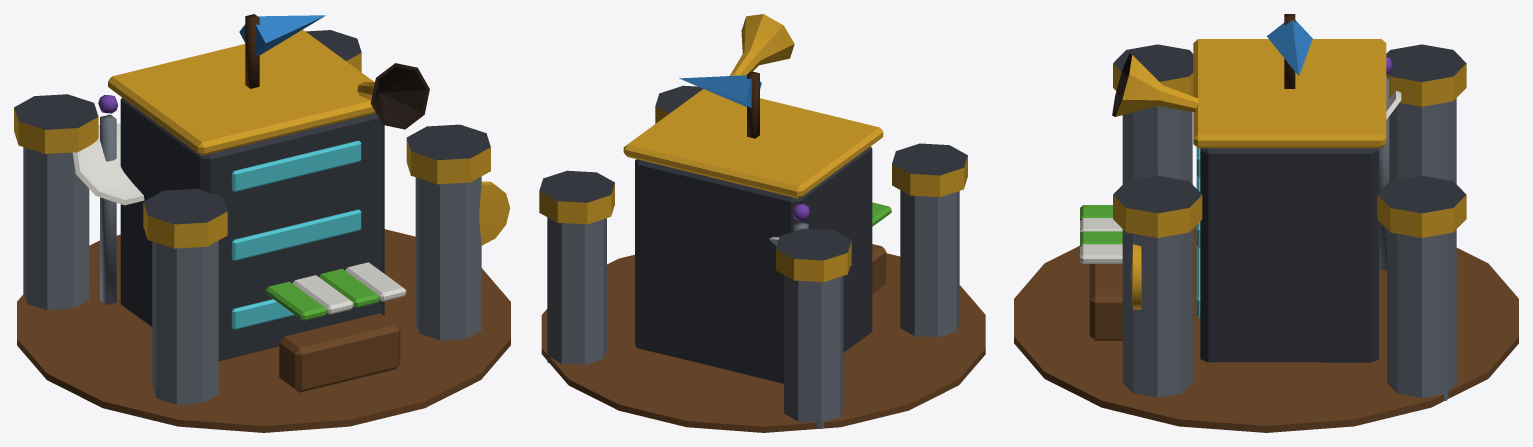
3 renders of one model, left to right at view 1: azimuth 30°, elevation 25°; view 2: azimuth 150°, elevation 25°; view 3: azimuth 270°, elevation 25°, orthographic. The views are drawn at different scales.
Parts seen in each view (by area): view 1: vila_0_base, vila_1_torreta; view 2: vila_0_base, vila_1_torreta; view 3: vila_0_base, vila_1_torreta.
Boxes of the visible parts, x1,y1,x2,y2 form: vila_0_base: [14, 30, 510, 432]; vila_1_torreta: [239, 14, 325, 88]; vila_0_base: [539, 14, 985, 432]; vila_1_torreta: [679, 71, 761, 138]; vila_0_base: [1014, 39, 1518, 432]; vila_1_torreta: [1267, 14, 1312, 88].
Bounding box in the file's own units: 1.32 × 0.88 × 1.3.
